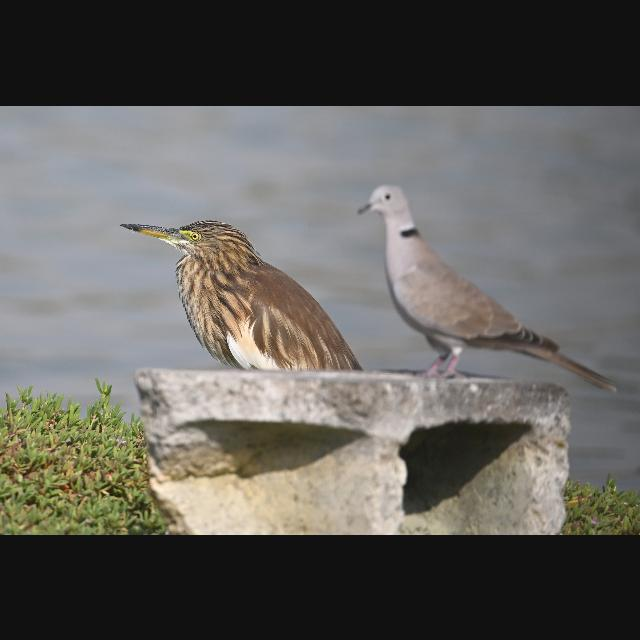heron: (111, 208, 361, 372)
